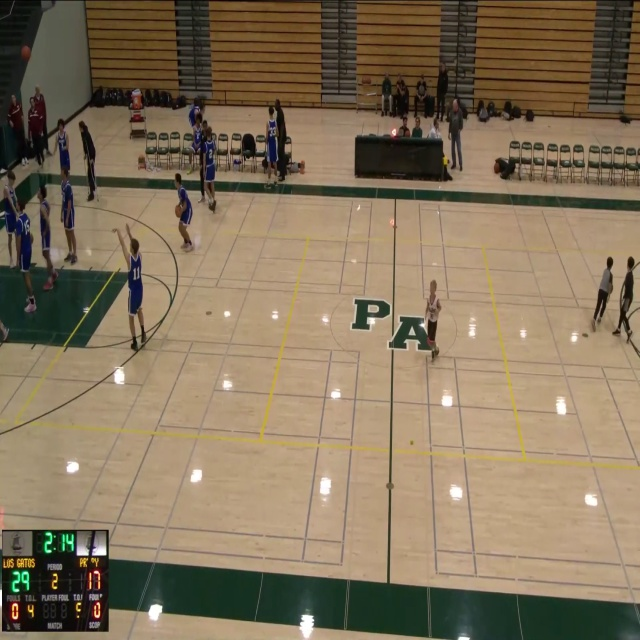Basketball: (21, 45, 31, 60), (175, 204, 182, 217), (493, 164, 499, 173)
